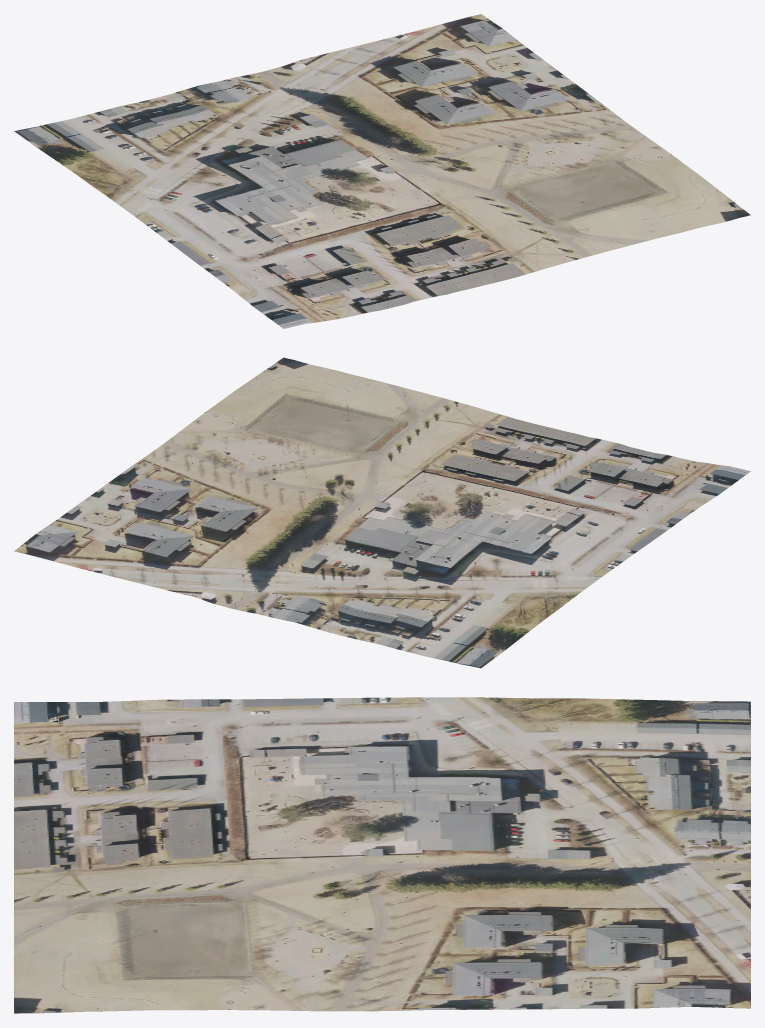
File: CM_Terrain_24490458_6818565.fbx
3 views of the same model, one above another, from view 1: azimuth 30°, elevation 25°; view 2: azimuth 150°, elevation 25°; view 3: azimuth 270°, elevation 25° (orthographic). The views are drawn at different scales.
Parts seen in each view (by area): view 1: CM_Terrain_24490458_6818565_LOD0; view 2: CM_Terrain_24490458_6818565_LOD0; view 3: CM_Terrain_24490458_6818565_LOD0.
Part boxes in pixels (x1,y1,x2,y2): CM_Terrain_24490458_6818565_LOD0: [14, 14, 750, 328]; CM_Terrain_24490458_6818565_LOD0: [14, 357, 750, 668]; CM_Terrain_24490458_6818565_LOD0: [14, 697, 750, 1013].
Size of what is drawn, in the model's own units: 205 by 4.78 by 205.
